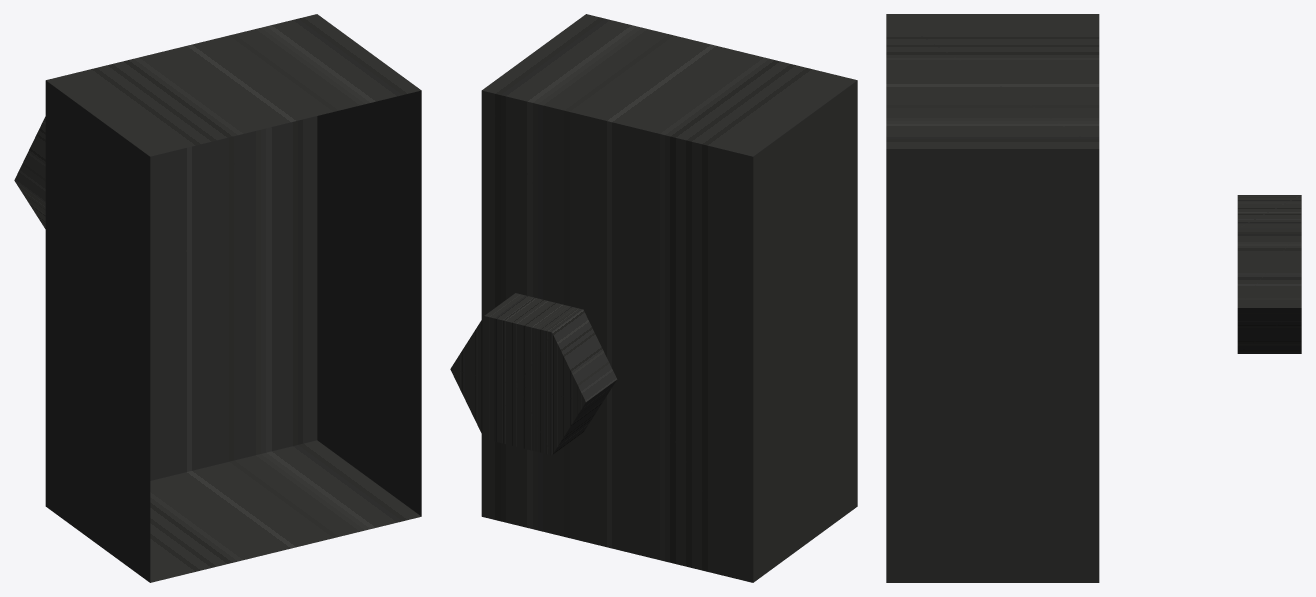
Rendered from HopDieuToc.glb.
3 views of the same model, side by side, from view 1: azimuth 30°, elevation 25°; view 2: azimuth 150°, elevation 25°; view 3: azimuth 270°, elevation 25° (orthographic).
Parts seen in each view (by area): view 1: geometry_0; view 2: geometry_0; view 3: geometry_0.
Boxes of the visible parts, <box> form: geometry_0: <box>14,14,421,582</box>; geometry_0: <box>450,14,857,582</box>; geometry_0: <box>886,14,1301,582</box>.
Bounding box in the file's own units: 0.06 × 0.09 × 0.078.
1 material, 1 textured.
